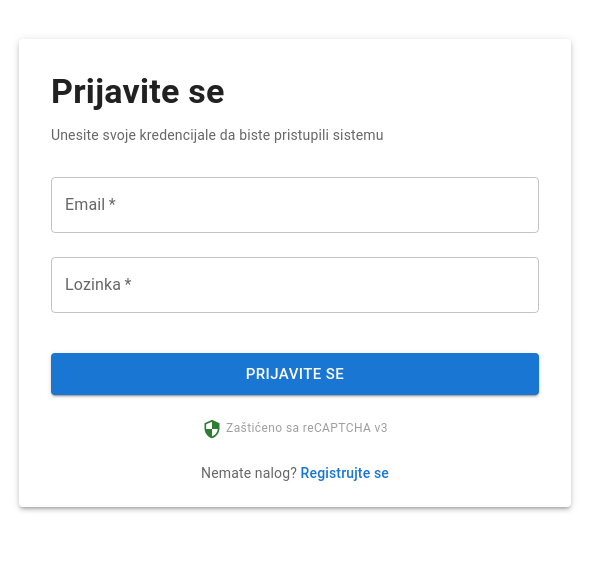
Scenario: Login komponenta › prikazuje grešku za neispravne kredencijale
Type "wrong@test.com" into the field labelled "Email *" at (295, 205), box [51, 177, 539, 233]
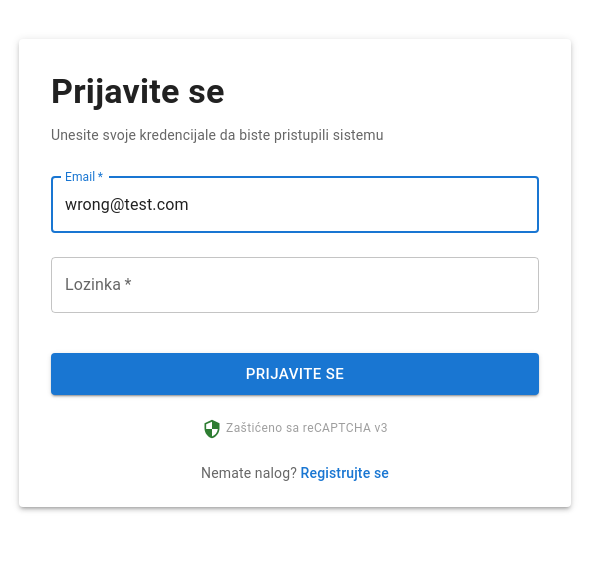
Type "wrongpass" into the password field labelled "Lozinka *" at (295, 285), box [51, 257, 539, 313]
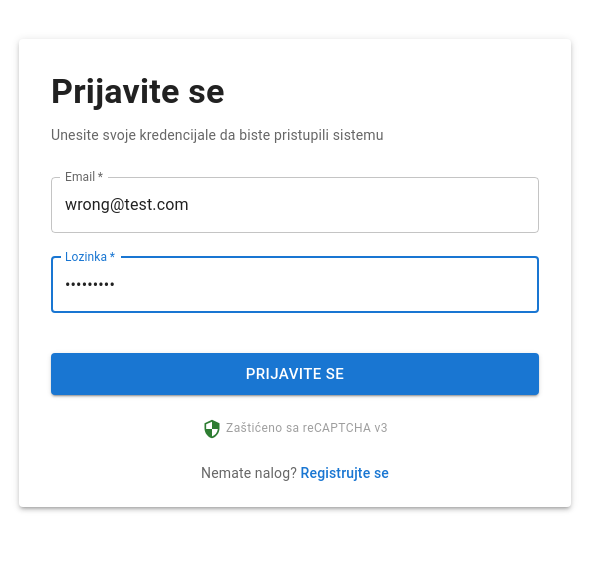
Click the button "Prijavite se" at (295, 374), box [51, 353, 539, 395]
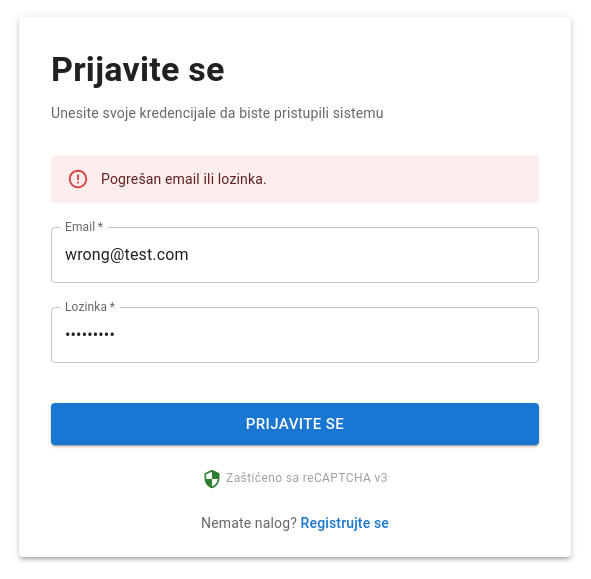
Expected: the text "Pogrešan email ili lozinka." is shown, [101, 171, 267, 187]
